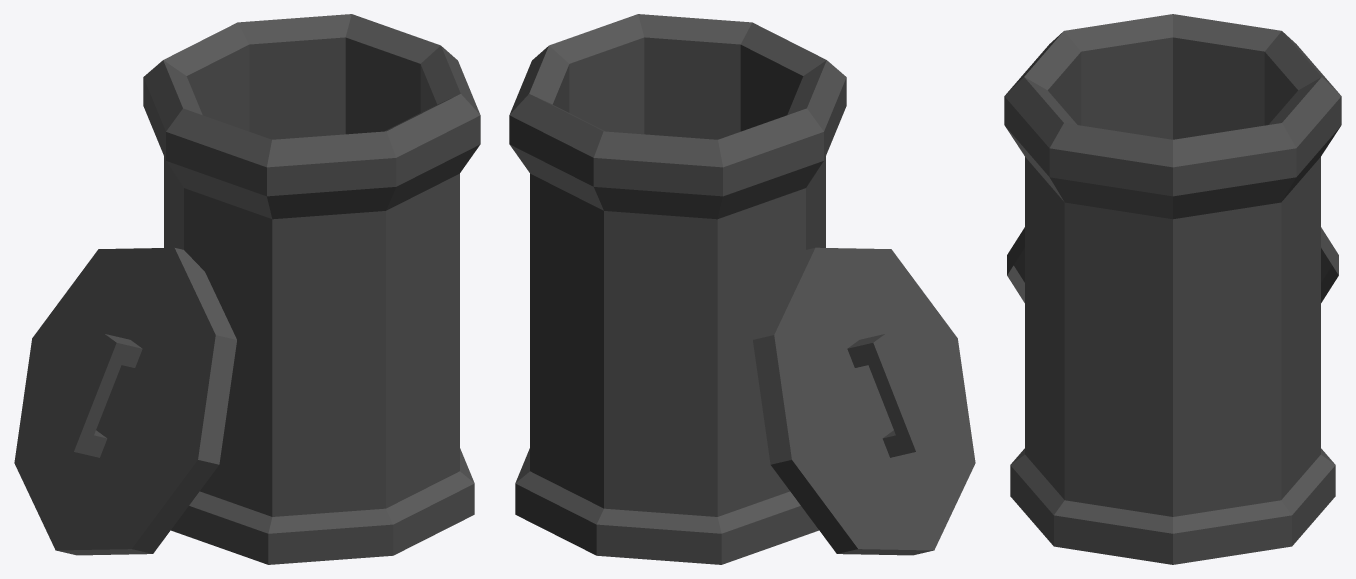
Rendered from TrashBox.fbx.
3 views of the same model, side by side, from view 1: azimuth 30°, elevation 25°; view 2: azimuth 150°, elevation 25°; view 3: azimuth 270°, elevation 25° (orthographic).
Visible parts, largest first — view 1: Cube, Circle; view 2: Cube, Circle; view 3: Cube, Circle.
Part boxes in pixels (x1,y1,x2,y2): Cube: (143, 14, 480, 564); Circle: (14, 247, 236, 555); Cube: (509, 14, 846, 564); Circle: (753, 247, 975, 555); Cube: (1004, 14, 1341, 564); Circle: (1007, 227, 1338, 302).
Bounding box in the file's own units: 429 × 429 × 311.
